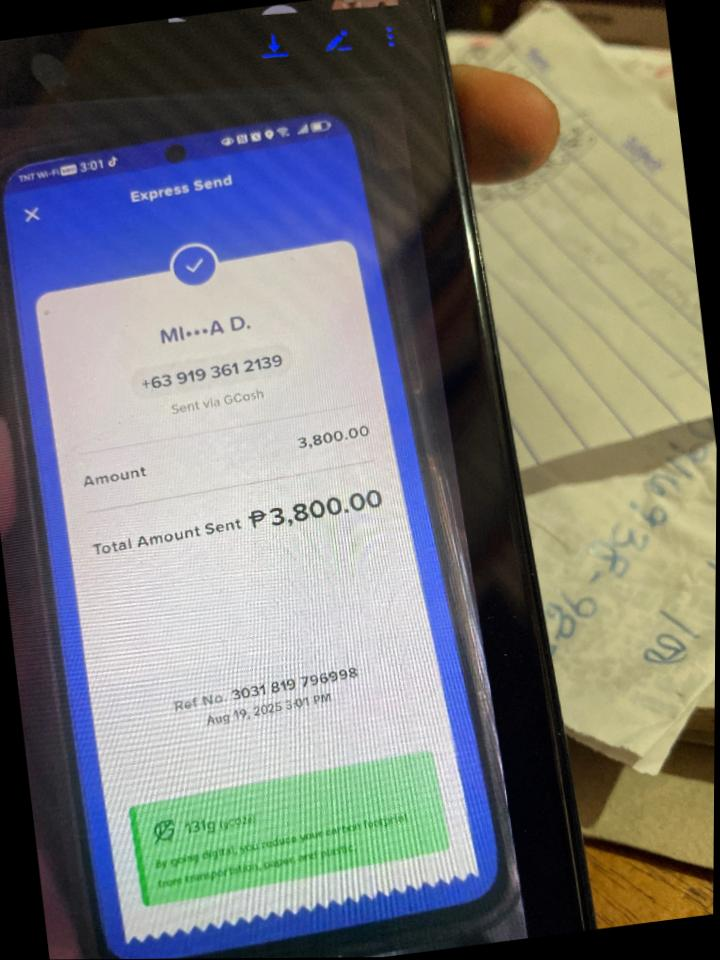Receipt: (2, 133, 504, 959)
